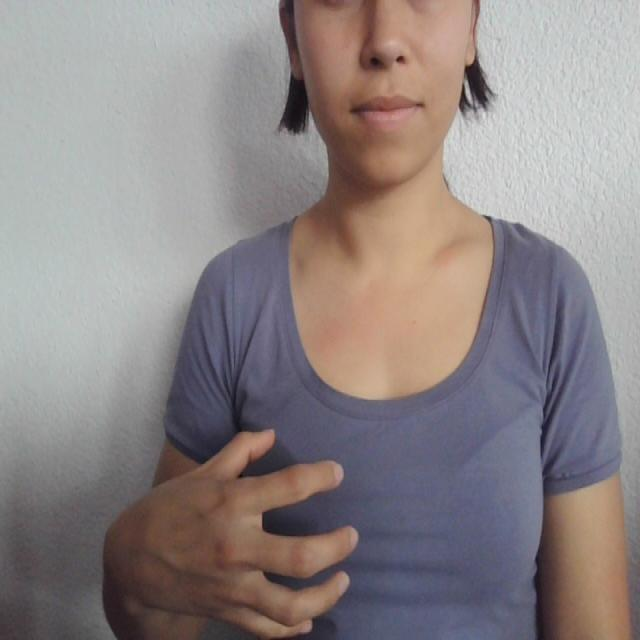Anne: (112, 414, 526, 640)
